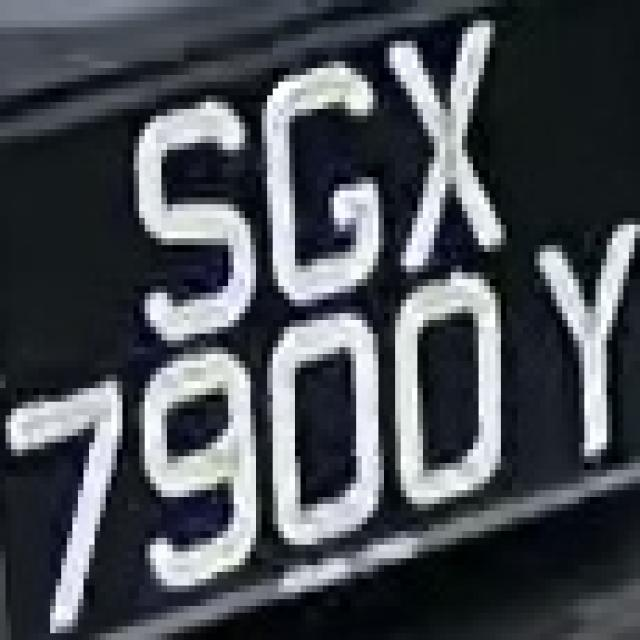0: (251, 293, 395, 558), (378, 266, 512, 544)
7: (0, 4, 1, 7)
9: (128, 347, 278, 599)
G: (256, 34, 390, 320)
S: (134, 89, 262, 347)
X: (368, 14, 534, 279)
Y: (506, 211, 624, 477)
